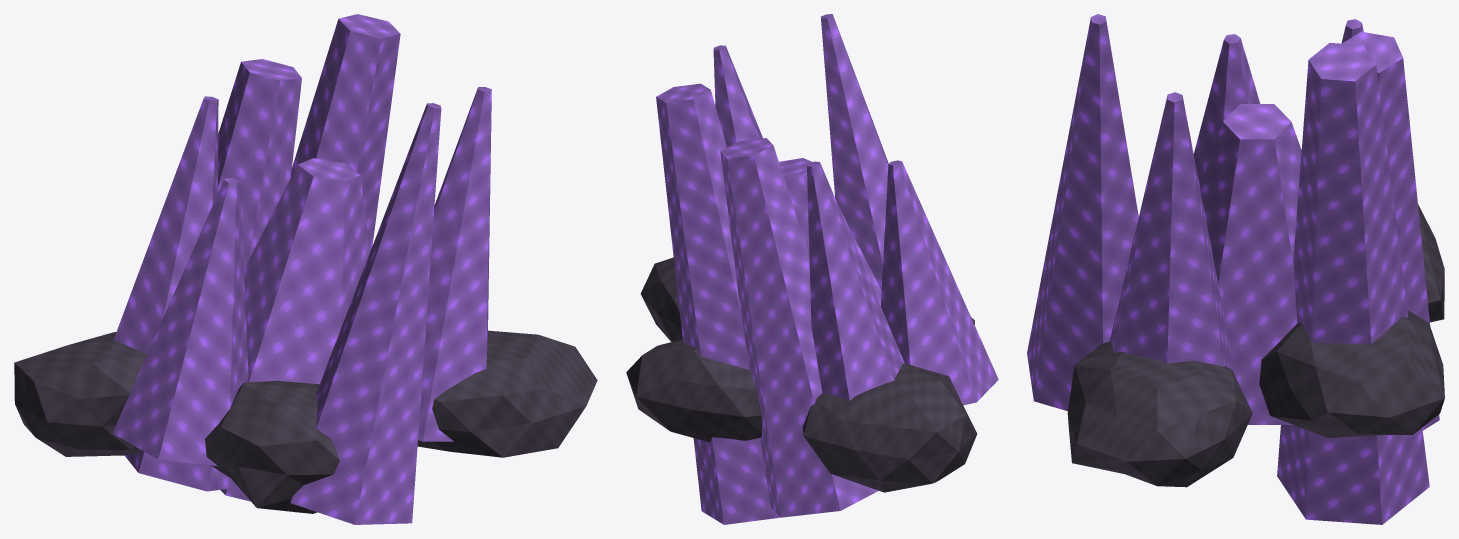
The model's file is underworld-resource-fracture-crystal.glb.
The picture shows the model from 3 angles, left to right: view 1: azimuth 30°, elevation 25°; view 2: azimuth 150°, elevation 25°; view 3: azimuth 270°, elevation 25°; orthographic projection. The views are drawn at different scales.
Visible parts, largest first — view 1: crystal-2, crystal-0, crystal-4, crystal-5, matrix-3, crystal-6, crystal-3, matrix-1, matrix-0, crystal-1; view 2: crystal-6, crystal-3, matrix-0, crystal-4, crystal-1, matrix-2, crystal-2, crystal-5, matrix-3, crystal-0; view 3: crystal-3, crystal-2, crystal-0, matrix-3, crystal-5, matrix-2, crystal-6, crystal-4, matrix-0.
Part boxes in pixels (x1=…): crystal-2: x1=290, y1=103, x2=441, y2=524; crystal-0: x1=243, y1=158, x2=369, y2=384; crystal-4: x1=112, y1=178, x2=248, y2=465; crystal-5: x1=418, y1=87, x2=491, y2=441; matrix-3: x1=417, y1=330, x2=597, y2=457; crystal-6: x1=124, y1=59, x2=301, y2=491; crystal-3: x1=220, y1=14, x2=400, y2=512; matrix-1: x1=205, y1=380, x2=339, y2=513; matrix-0: x1=14, y1=332, x2=146, y2=456; crystal-1: x1=113, y1=96, x2=218, y2=354; crystal-6: x1=720, y1=138, x2=878, y2=517; crystal-3: x1=656, y1=83, x2=780, y2=524; matrix-0: x1=802, y1=363, x2=977, y2=492; crystal-4: x1=880, y1=160, x2=998, y2=405; crystal-1: x1=807, y1=161, x2=904, y2=400; matrix-2: x1=626, y1=339, x2=761, y2=442; crystal-2: x1=821, y1=14, x2=888, y2=289; crystal-5: x1=713, y1=45, x2=762, y2=147; matrix-3: x1=640, y1=257, x2=682, y2=341; crystal-0: x1=779, y1=158, x2=881, y2=305; crystal-3: x1=1277, y1=43, x2=1429, y2=524; crystal-2: x1=1027, y1=14, x2=1138, y2=411; crystal-0: x1=1200, y1=104, x2=1301, y2=424; matrix-3: x1=1067, y1=341, x2=1252, y2=487; crystal-5: x1=1109, y1=92, x2=1233, y2=372; matrix-2: x1=1259, y1=310, x2=1444, y2=437; crystal-6: x1=1342, y1=31, x2=1439, y2=430; crystal-4: x1=1193, y1=34, x2=1260, y2=186; matrix-0: x1=1418, y1=204, x2=1444, y2=322.
Size of the model in its own units: 0.1994 by 0.194 by 0.1463.
2 materials, 2 textured.
